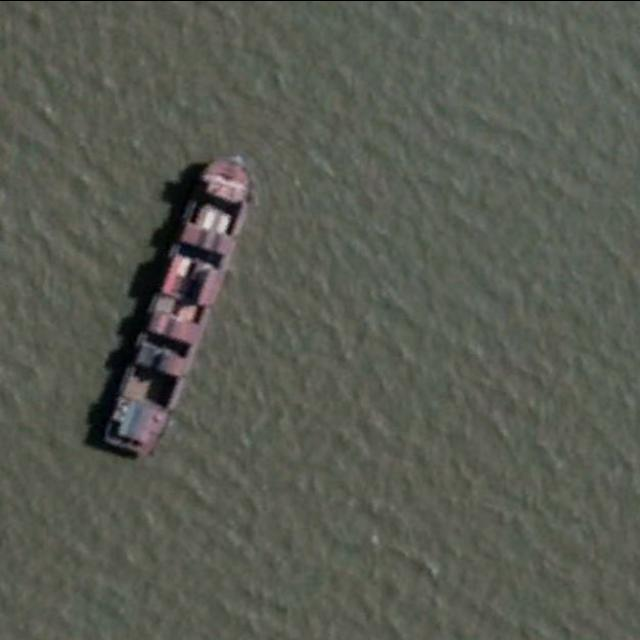ship: (94, 156, 254, 460)
